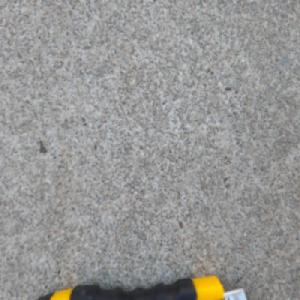Cutter: (36, 274, 250, 300)
